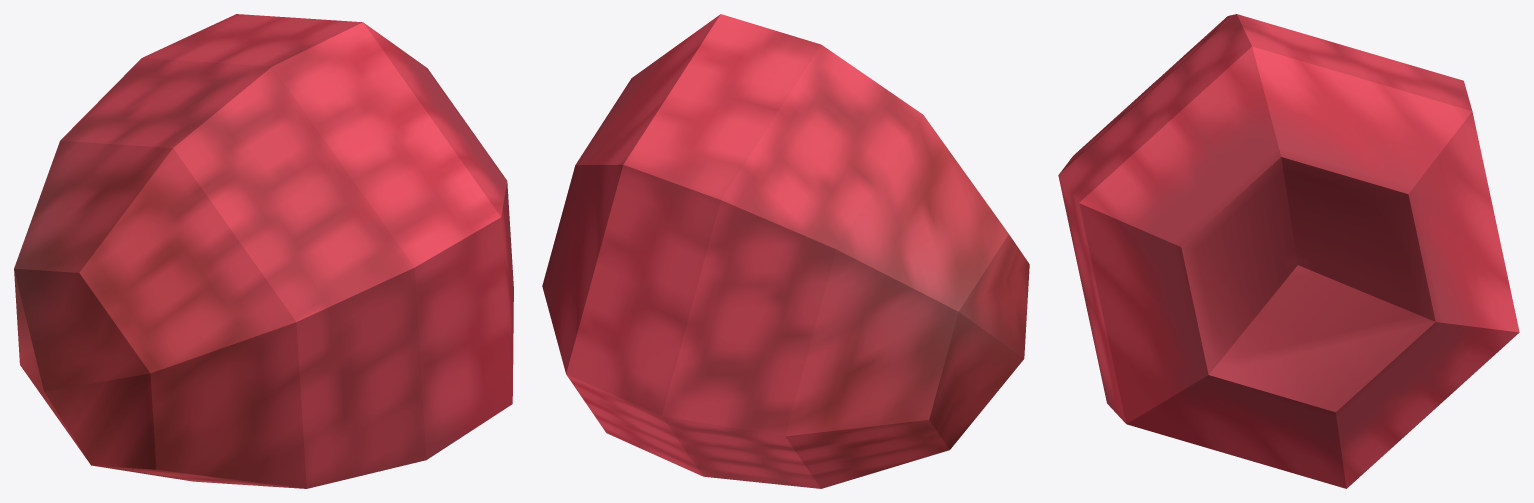
File: 21b61279-d41e-4ae3-babb-06d88acb901c.glb
3 renders of one model, left to right at view 1: azimuth 30°, elevation 25°; view 2: azimuth 150°, elevation 25°; view 3: azimuth 270°, elevation 25°, orthographic. The views are drawn at different scales.
Visible parts, largest first — view 1: Raspberry; view 2: Raspberry; view 3: Raspberry.
Boxes of the visible parts, box(x1,y1,x2,y2) form: Raspberry: box(14, 14, 513, 488); Raspberry: box(542, 14, 1029, 488); Raspberry: box(1058, 14, 1519, 488).
Size of the model in its own units: 0.0291 by 0.0282 by 0.0271.
Materials: 1 (1 with a texture image).
